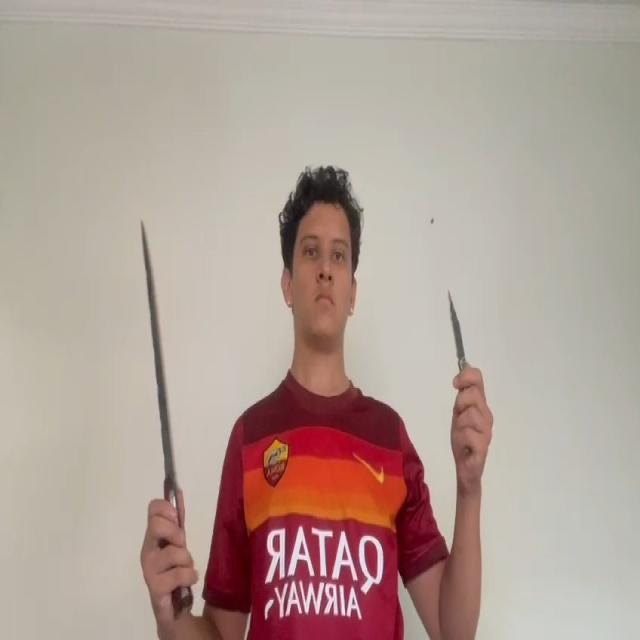knife: (141, 221, 174, 485), (448, 290, 465, 364)
